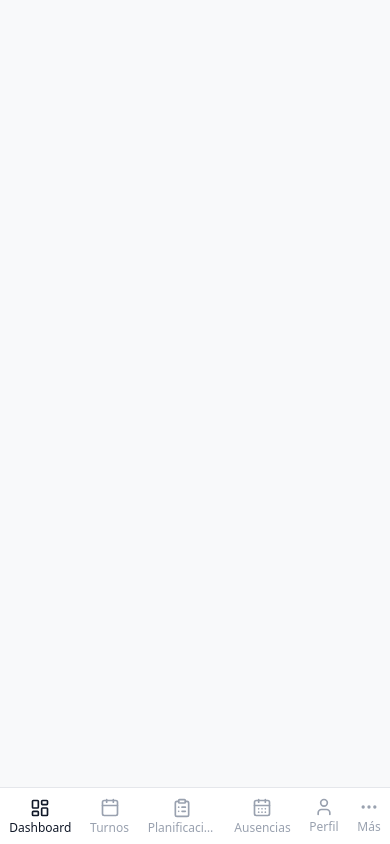
Test: MobileNav › abre menú de administración al hacer click en Más
Click the button "Más": (369, 816) [349,789,389,843]
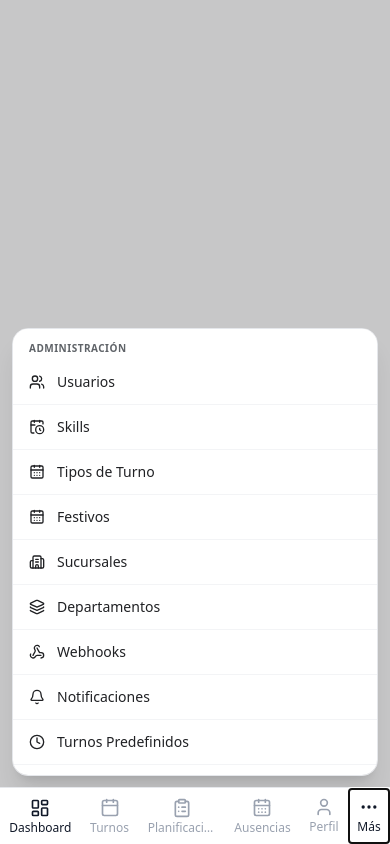
Now the link "Usuarios" is shown, box [13,360,377,405]
